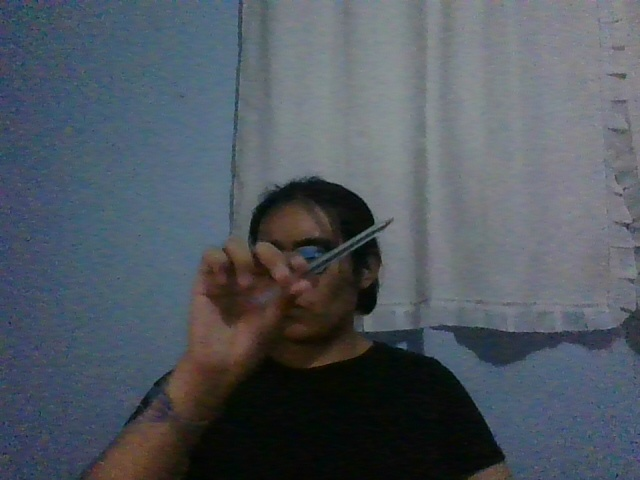pluma: (254, 216, 395, 307)
